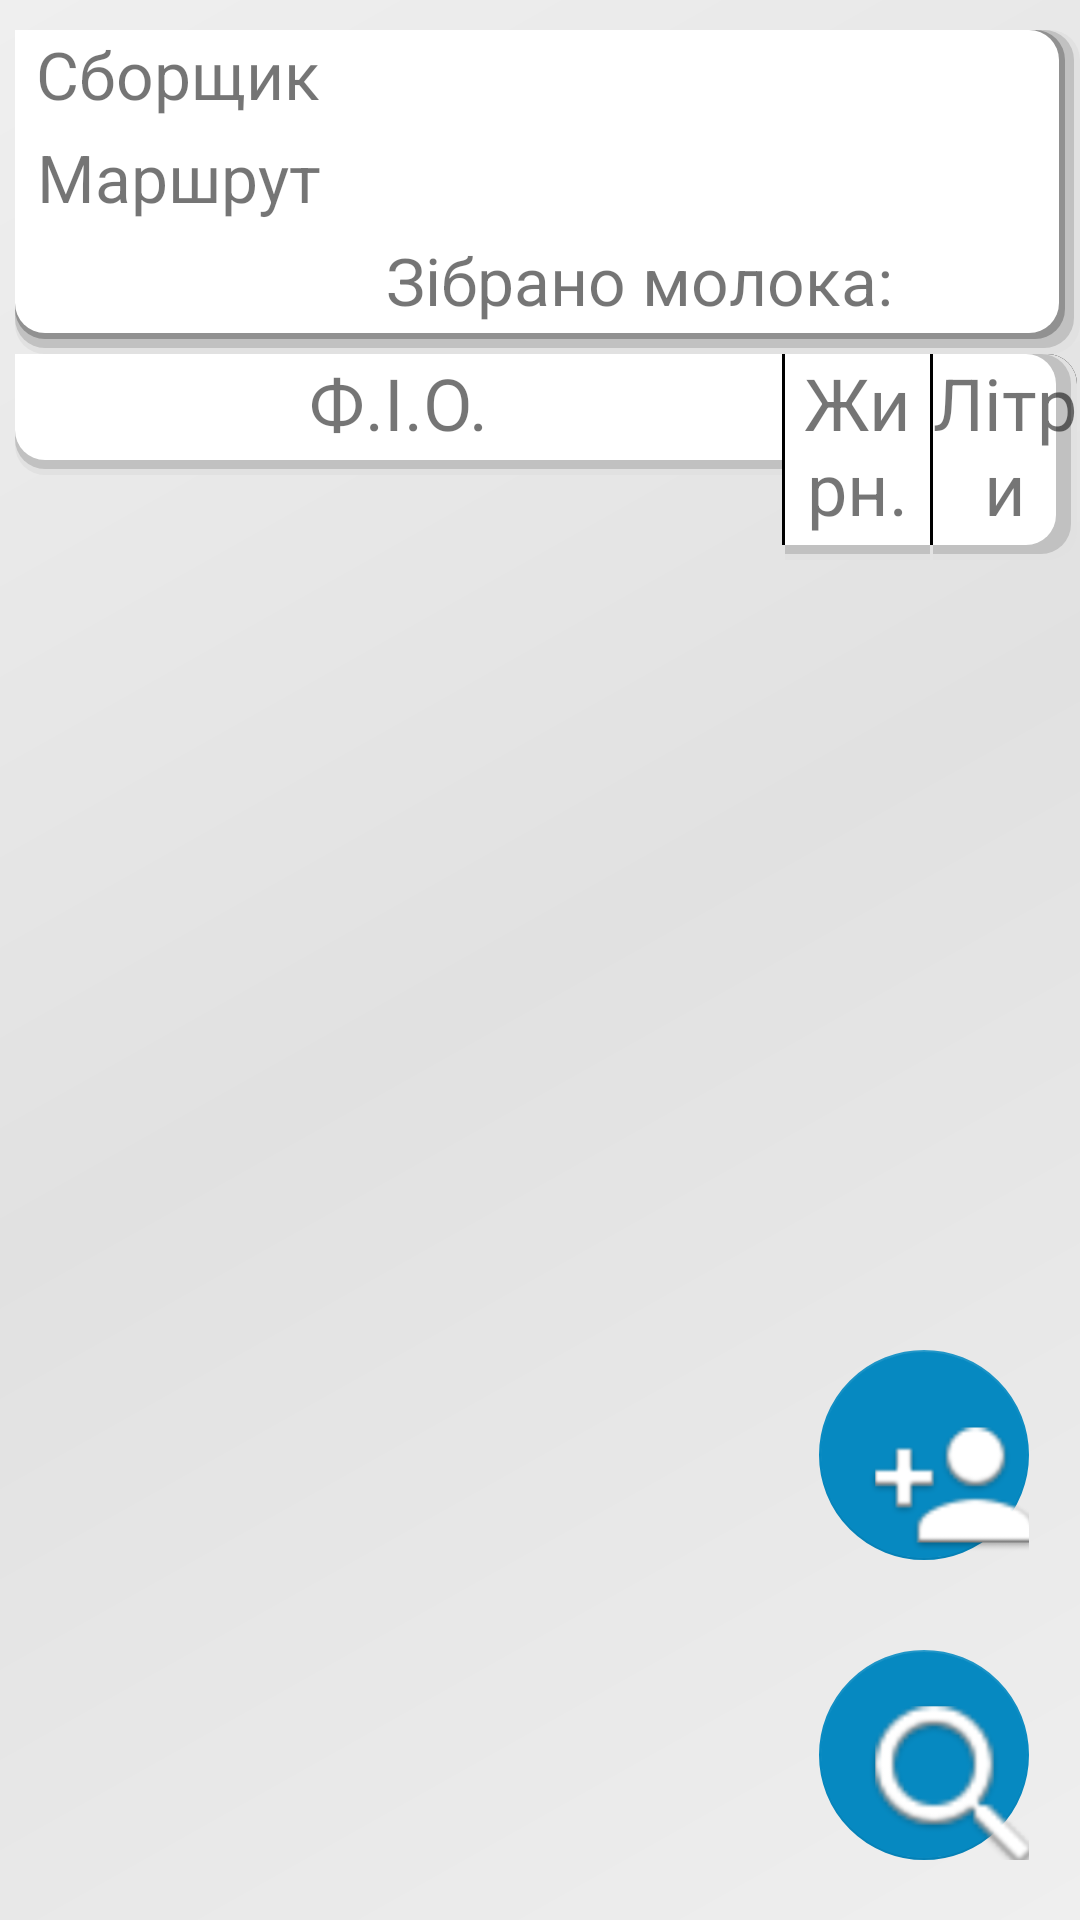

Locate icon controls on the screen. Image size 1080px x 1920px, boxes as (x1, y1, x2, y2).
registration: (819, 1350, 1029, 1560)
search: (819, 1650, 1029, 1860)
